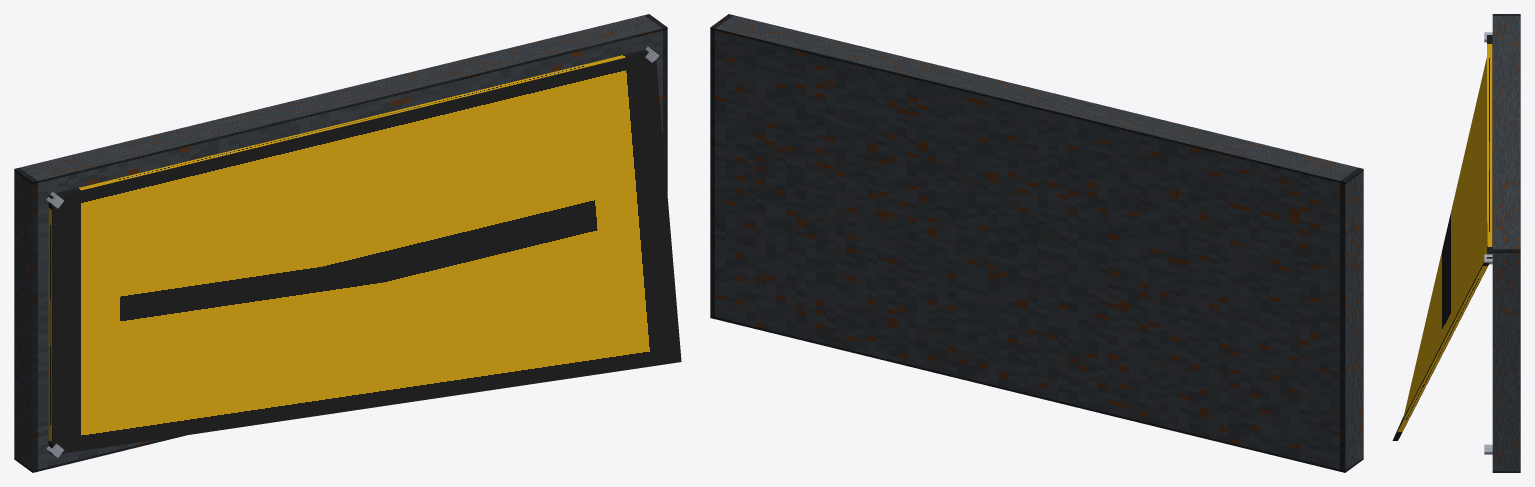
Rendered from sign_placard_command_bridge.glb.
3 renders of one model, left to right at view 1: azimuth 30°, elevation 25°; view 2: azimuth 150°, elevation 25°; view 3: azimuth 270°, elevation 25°, orthographic. The views are drawn at different scales.
Visible parts, largest first — view 1: sign_placard_command_bridge; view 2: sign_placard_command_bridge; view 3: sign_placard_command_bridge.
Boxes of the visible parts, left/top/right/bottom form: sign_placard_command_bridge: left=14, top=14, right=681, bottom=472; sign_placard_command_bridge: left=710, top=14, right=1363, bottom=472; sign_placard_command_bridge: left=1392, top=14, right=1520, bottom=472.
Bounding box in the file's own units: 0.8 × 0.35 × 0.183.
Materials: 3 (3 with a texture image).
